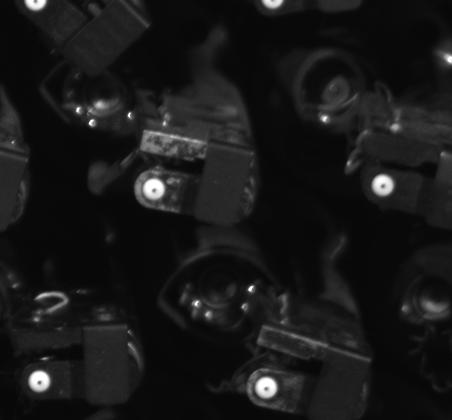fiber: (252, 373, 281, 404), (366, 169, 397, 198), (26, 369, 56, 396), (141, 175, 169, 203), (23, 1, 51, 16)
